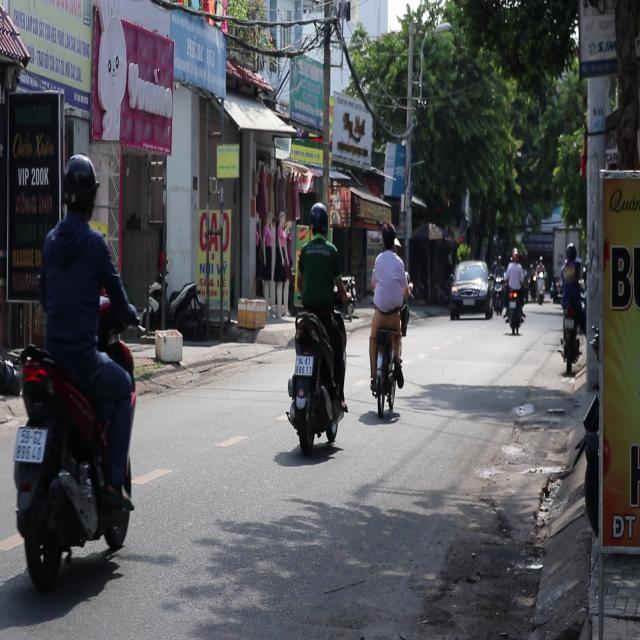helmet: (58, 152, 99, 222), (308, 201, 328, 236)
licenseplate: (10, 146, 140, 597), (285, 201, 349, 453), (366, 220, 410, 417)
motorcyclist: (380, 221, 396, 250)
nohelmet: (14, 426, 46, 461), (295, 354, 312, 374)
